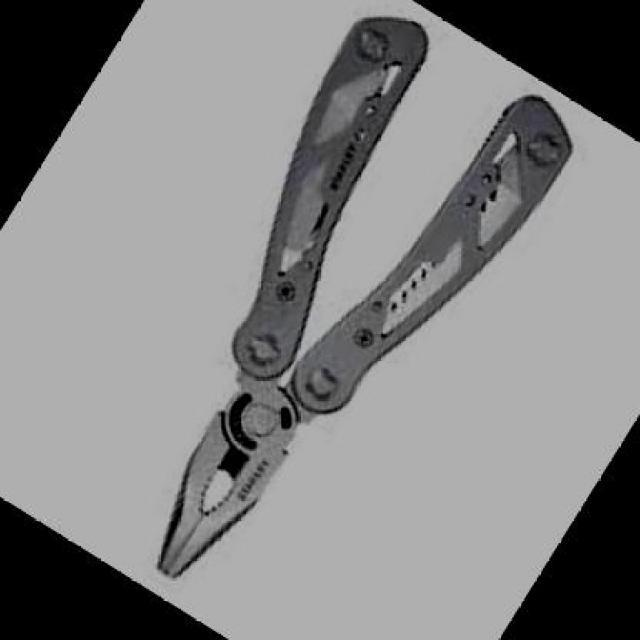pliers: (10, 0, 638, 638)
